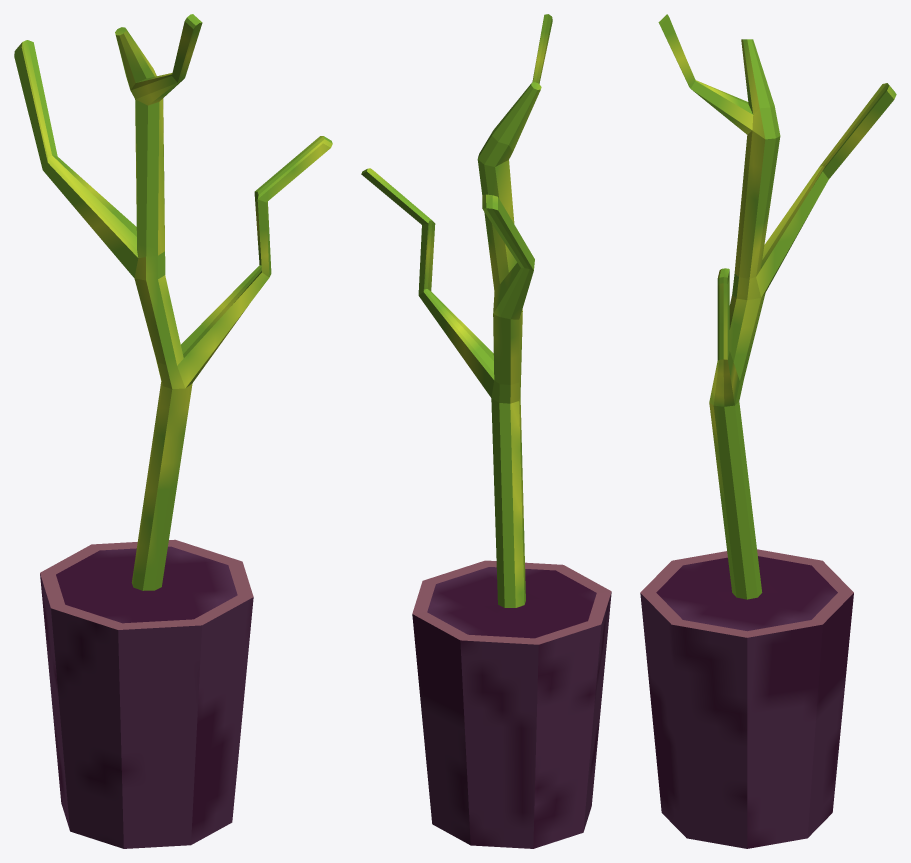
File: plant.fbx
The picture shows the model from 3 angles, left to right: view 1: azimuth 30°, elevation 25°; view 2: azimuth 150°, elevation 25°; view 3: azimuth 270°, elevation 25°; orthographic projection. The views are drawn at different scales.
Visible parts, largest first — view 1: Cylinder.003; view 2: Cylinder.003; view 3: Cylinder.003.
Part boxes in pixels (left/top/right/bottom): Cylinder.003: left=14, top=14, right=332, bottom=848; Cylinder.003: left=361, top=14, right=611, bottom=848; Cylinder.003: left=640, top=14, right=896, bottom=848.
Size of the model in its own units: 92.47 by 272 by 79.15.
